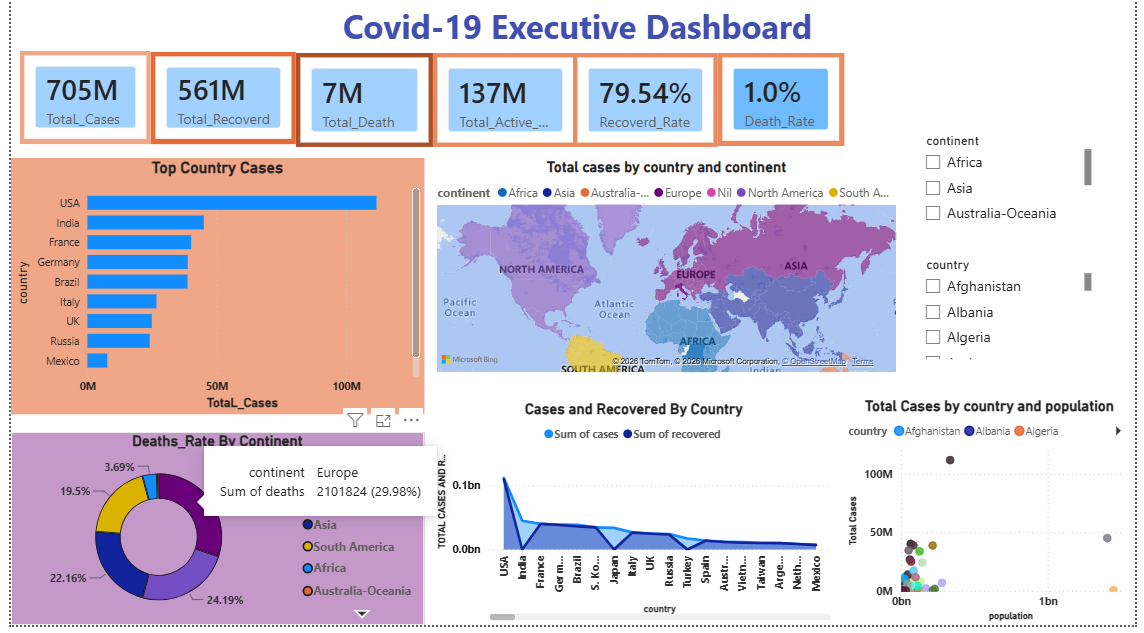

The dashboard page shown, as its layout file describes it:
{"tool":"powerbi","page":{"name":"Page 1","canvas":[1280,720],"ordinal":8},"visuals":[{"type":"textbox","box":[10.3,6.8,1270.3,61.5],"z":0},{"type":"cardVisual","fields":{"Data":["Covid_19.TotaL_Cases"]},"box":[10.3,66.1,149.2,105.9],"z":1},{"type":"cardVisual","fields":{"Data":["Covid_19.Total_Recoverd"]},"box":[159.5,67.2,165.2,104.8],"z":2},{"type":"cardVisual","fields":{"Data":["Covid_19.Total_Death"]},"box":[324.7,68.4,156.1,107.1],"z":3},{"type":"cardVisual","fields":{"Data":["Covid_19.Total_Active_Cases"]},"box":[480.8,68.4,165.2,107.1],"z":4},{"type":"cardVisual","fields":{"Data":["Covid_19.Recoverd_Percentage"]},"box":[640.3,68.4,165.2,107.1],"z":5},{"type":"cardVisual","fields":{"Data":["Covid_19.Death_Percentage"]},"box":[805.4,68.4,143.5,105.9],"z":6},{"type":"clusteredBarChart","title":"Top Country Cases","fields":{"Category":["Covid_19.country"],"Y":["Covid_19.TotaL_Cases"]},"box":[0,188,470.5,291.6],"z":7},{"type":"filledMap","title":"Total cases by country and continent","fields":{"Category":["Covid_19.country"],"Series":["Covid_19.continent"]},"box":[480.8,188,532,249.5],"z":8},{"type":"donutChart","title":"Deaths_Rate By Continent","fields":{"Category":["Covid_19.continent"],"Y":["Sum(Covid_19.deaths)"]},"box":[0,500.1,470.5,219.9],"z":9},{"type":"lineChart","title":"Cases and Recovered By Country","fields":{"Category":["Covid_19.country"],"Y":["Sum(Covid_19.cases)","Sum(Covid_19.recovered)"]},"box":[480.8,463.7,458,256.3],"z":10},{"type":"scatterChart","title":"Total Cases by country and population","fields":{"Y":["Sum(Covid_19.cases)"],"X":["Covid_19.population"],"Series":["Covid_19.country"]},"box":[949,460.3,331.5,259.7],"z":11},{"type":"slicer","fields":{"Values":["Covid_19.country"]},"box":[1029.9,296.2,206.2,126.5],"z":12},{"type":"slicer","fields":{"Values":["Covid_19.continent"]},"box":[1029.9,154.9,206.2,119.6],"z":13}]}

Visuals, with their boxes in screenshot pixels (x1, y1, x2, y2), scaled from the page's 1280x720 canvas onto the 1144x633 screenshot:
textbox: bbox(9, 6, 1143, 60)
cardVisual - Covid_19.TotaL_Cases: bbox(9, 58, 143, 151)
cardVisual - Covid_19.Total_Recoverd: bbox(143, 59, 290, 151)
cardVisual - Covid_19.Total_Death: bbox(290, 60, 430, 154)
cardVisual - Covid_19.Total_Active_Cases: bbox(430, 60, 577, 154)
cardVisual - Covid_19.Recoverd_Percentage: bbox(572, 60, 720, 154)
cardVisual - Covid_19.Death_Percentage: bbox(720, 60, 848, 153)
"Top Country Cases" clusteredBarChart: bbox(0, 165, 421, 422)
"Total cases by country and continent" filledMap: bbox(430, 165, 905, 385)
"Deaths_Rate By Continent" donutChart: bbox(0, 440, 421, 632)
"Cases and Recovered By Country" lineChart: bbox(430, 408, 839, 632)
"Total Cases by country and population" scatterChart: bbox(848, 405, 1143, 632)
slicer - Covid_19.country: bbox(920, 260, 1105, 372)
slicer - Covid_19.continent: bbox(920, 136, 1105, 241)
